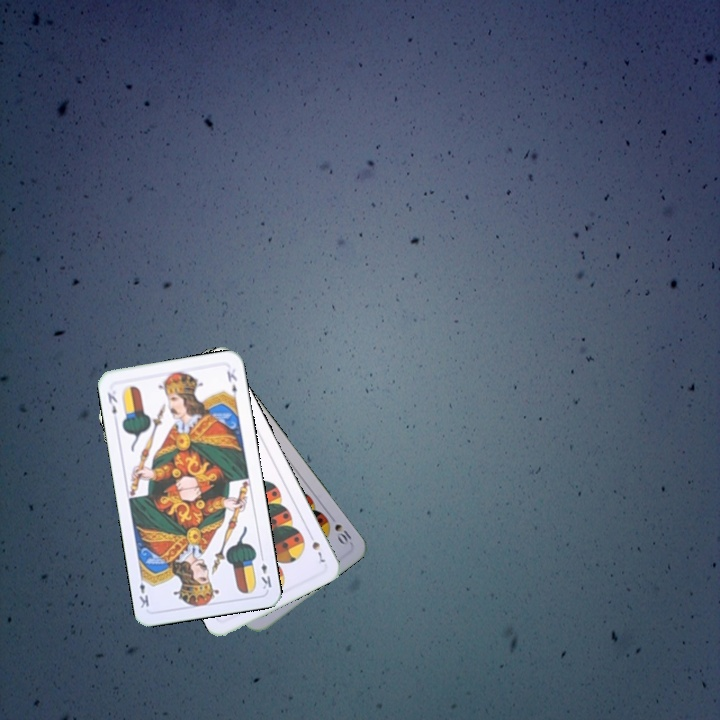EK: (256, 551, 274, 592), (103, 388, 120, 417)
S10: (330, 520, 354, 548)
S7: (305, 529, 328, 565)
